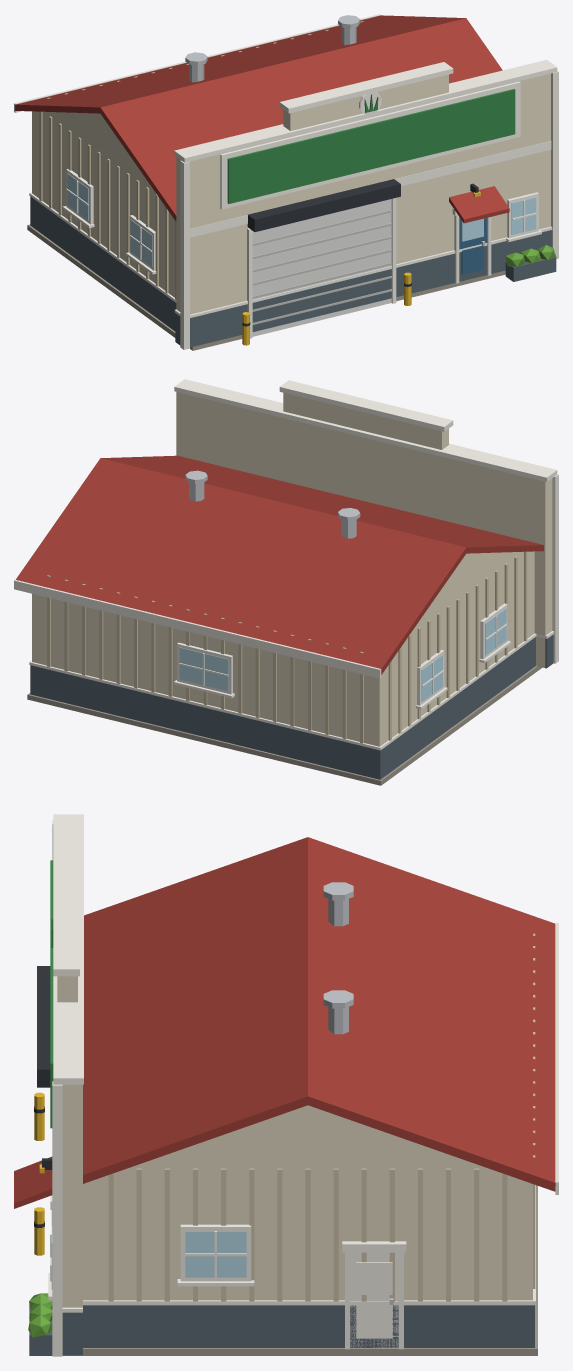
File: bld_hq_garage.glb
3 views of the same model, one above another, from view 1: azimuth 30°, elevation 25°; view 2: azimuth 150°, elevation 25°; view 3: azimuth 270°, elevation 25° (orthographic). The views are drawn at different scales.
Visible parts, largest first — view 1: bld_hq_garage; view 2: bld_hq_garage; view 3: bld_hq_garage.
Boxes of the visible parts, box(x1,y1,x2,y2) form: bld_hq_garage: box(14, 14, 558, 350); bld_hq_garage: box(14, 379, 558, 785); bld_hq_garage: box(14, 814, 558, 1356).
Size of the model in its own units: 12.3 by 6.9 by 10.66.
